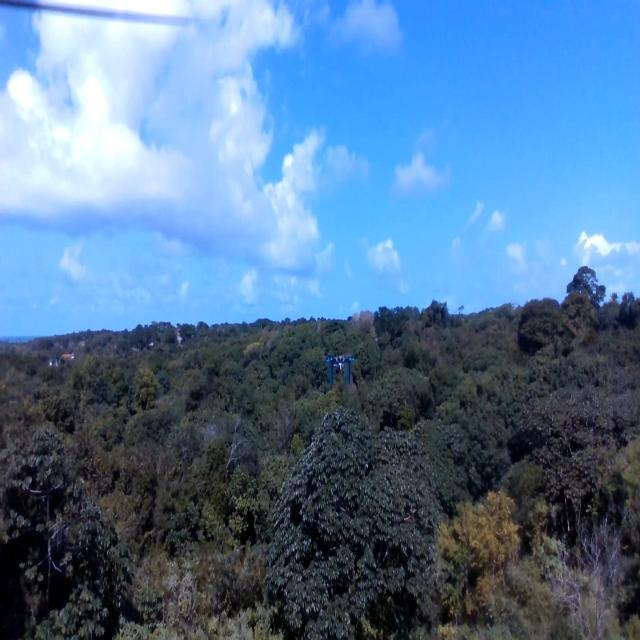-uav-: (320, 345, 359, 387)
